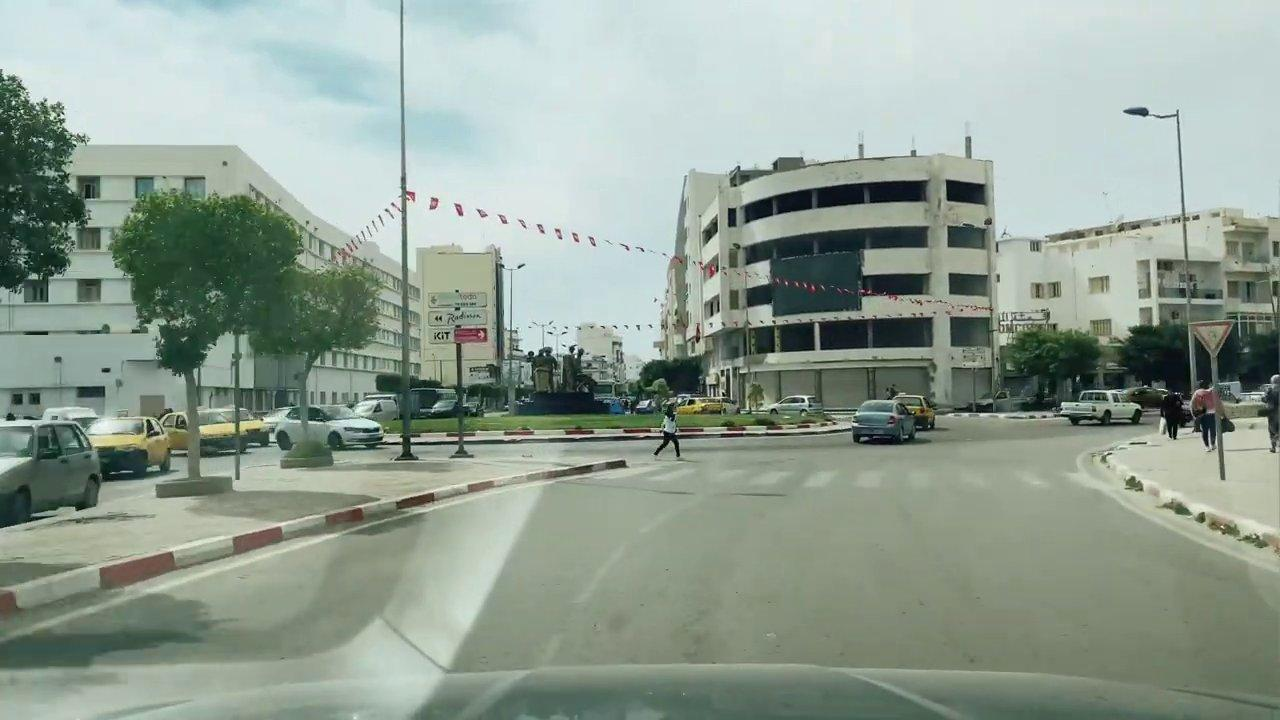give way: (1186, 317, 1237, 358)
